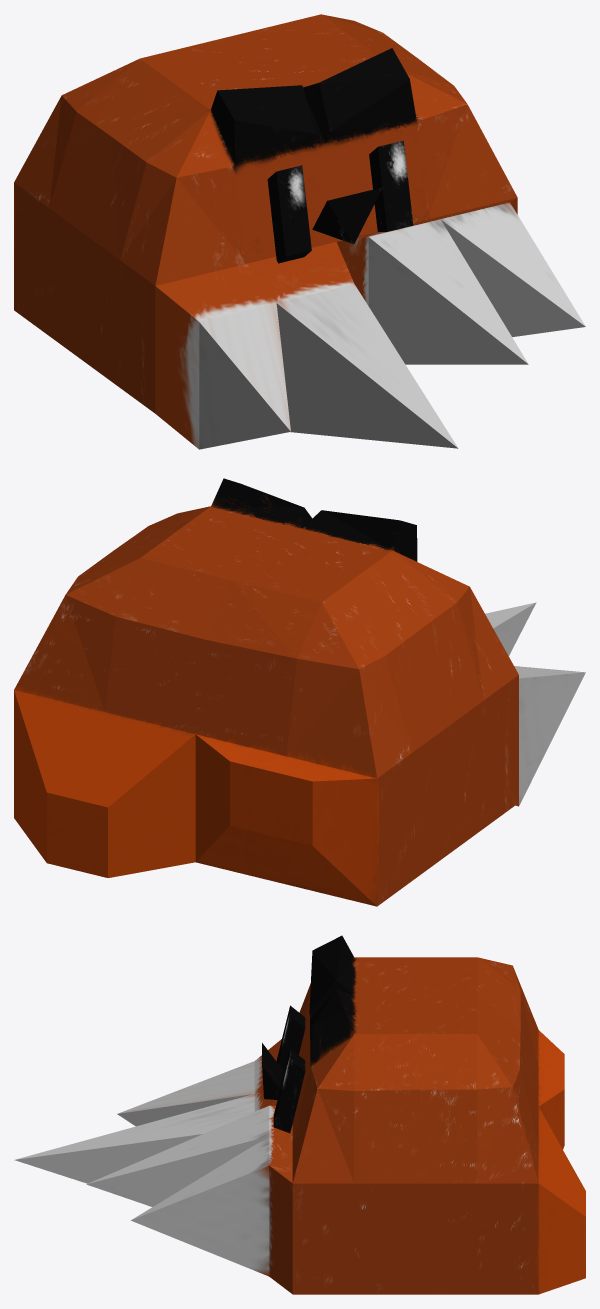
Rendered from needle_Body.obj.
3 views of the same model, one above another, from view 1: azimuth 30°, elevation 25°; view 2: azimuth 150°, elevation 25°; view 3: azimuth 270°, elevation 25° (orthographic). The views are drawn at different scales.
Parts seen in each view (by area): view 1: 立方体.003; view 2: 立方体.003; view 3: 立方体.003.
Part boxes in pixels (left/top/right/bottom): 立方体.003: left=14, top=14, right=585, bottom=449; 立方体.003: left=14, top=478, right=585, bottom=906; 立方体.003: left=14, top=935, right=585, bottom=1294.
Bounding box in the file's own units: 0.9151 × 0.738 × 1.44.
